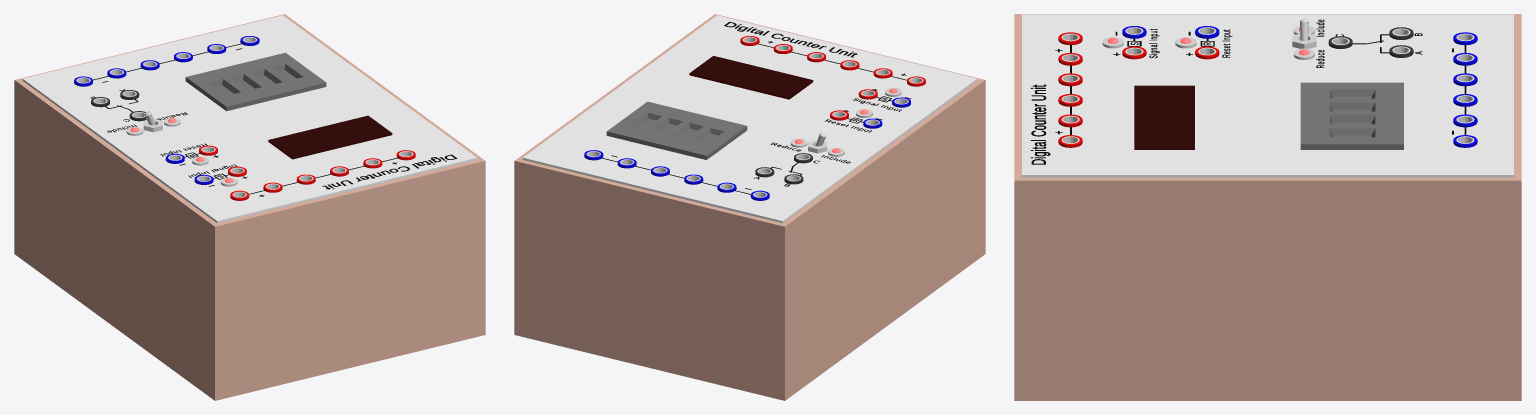
The model's file is counter-box.glb.
The picture shows the model from 3 angles, left to right: view 1: azimuth 30°, elevation 25°; view 2: azimuth 150°, elevation 25°; view 3: azimuth 270°, elevation 25°; orthographic projection. The views are drawn at different scales.
Parts seen in each view (by area): view 1: Digital-Counter-Unit_OP__go1045__mesh0, Digital-Counter-Unit_OP__go1045__mesh8, Digital-Counter-Unit_OP__go1045__mesh6, Digital-Counter-Unit_OP__go1045__mesh5, Digital-Counter-Unit_OP__go1045__mesh3, Digital-Counter-Unit_OP__go1045__mesh1, Digital-Counter-Unit_OP__go1045__mesh7, Digital-Counter-Unit_OP__go1045__mesh4, Digital-Counter-Unit_OP__go1045__mesh2; view 2: Digital-Counter-Unit_OP__go1045__mesh0, Digital-Counter-Unit_OP__go1045__mesh8, Digital-Counter-Unit_OP__go1045__mesh6, Digital-Counter-Unit_OP__go1045__mesh5, Digital-Counter-Unit_OP__go1045__mesh1, Digital-Counter-Unit_OP__go1045__mesh3, Digital-Counter-Unit_OP__go1045__mesh7, Digital-Counter-Unit_OP__go1045__mesh4, Digital-Counter-Unit_OP__go1045__mesh2; view 3: Digital-Counter-Unit_OP__go1045__mesh0, Digital-Counter-Unit_OP__go1045__mesh8, Digital-Counter-Unit_OP__go1045__mesh6, Digital-Counter-Unit_OP__go1045__mesh5, Digital-Counter-Unit_OP__go1045__mesh3, Digital-Counter-Unit_OP__go1045__mesh1, Digital-Counter-Unit_OP__go1045__mesh7, Digital-Counter-Unit_OP__go1045__mesh4, Digital-Counter-Unit_OP__go1045__mesh2.
Boxes of the visible parts, x1,y1,x2,y2 form: Digital-Counter-Unit_OP__go1045__mesh0: [14, 14, 485, 400]; Digital-Counter-Unit_OP__go1045__mesh8: [22, 15, 477, 223]; Digital-Counter-Unit_OP__go1045__mesh6: [185, 52, 326, 111]; Digital-Counter-Unit_OP__go1045__mesh5: [268, 115, 392, 159]; Digital-Counter-Unit_OP__go1045__mesh3: [199, 145, 415, 200]; Digital-Counter-Unit_OP__go1045__mesh1: [74, 36, 259, 184]; Digital-Counter-Unit_OP__go1045__mesh7: [90, 43, 456, 196]; Digital-Counter-Unit_OP__go1045__mesh4: [126, 117, 237, 186]; Digital-Counter-Unit_OP__go1045__mesh2: [91, 90, 146, 121]; Digital-Counter-Unit_OP__go1045__mesh0: [514, 14, 985, 400]; Digital-Counter-Unit_OP__go1045__mesh8: [522, 15, 977, 223]; Digital-Counter-Unit_OP__go1045__mesh6: [606, 101, 747, 159]; Digital-Counter-Unit_OP__go1045__mesh5: [689, 56, 813, 99]; Digital-Counter-Unit_OP__go1045__mesh1: [584, 97, 910, 200]; Digital-Counter-Unit_OP__go1045__mesh3: [740, 36, 925, 120]; Digital-Counter-Unit_OP__go1045__mesh7: [602, 21, 911, 194]; Digital-Counter-Unit_OP__go1045__mesh4: [790, 88, 901, 156]; Digital-Counter-Unit_OP__go1045__mesh2: [755, 153, 812, 184]; Digital-Counter-Unit_OP__go1045__mesh0: [1014, 14, 1521, 400]; Digital-Counter-Unit_OP__go1045__mesh8: [1022, 14, 1513, 177]; Digital-Counter-Unit_OP__go1045__mesh6: [1300, 82, 1403, 149]; Digital-Counter-Unit_OP__go1045__mesh5: [1134, 85, 1194, 149]; Digital-Counter-Unit_OP__go1045__mesh3: [1058, 32, 1219, 147]; Digital-Counter-Unit_OP__go1045__mesh1: [1122, 26, 1477, 147]; Digital-Counter-Unit_OP__go1045__mesh7: [1030, 19, 1466, 164]; Digital-Counter-Unit_OP__go1045__mesh4: [1102, 26, 1316, 59]; Digital-Counter-Unit_OP__go1045__mesh2: [1328, 27, 1413, 57].
Bounding box in the file's own units: 0.13 × 0.0889 × 0.167.
12 materials, 7 textured.
